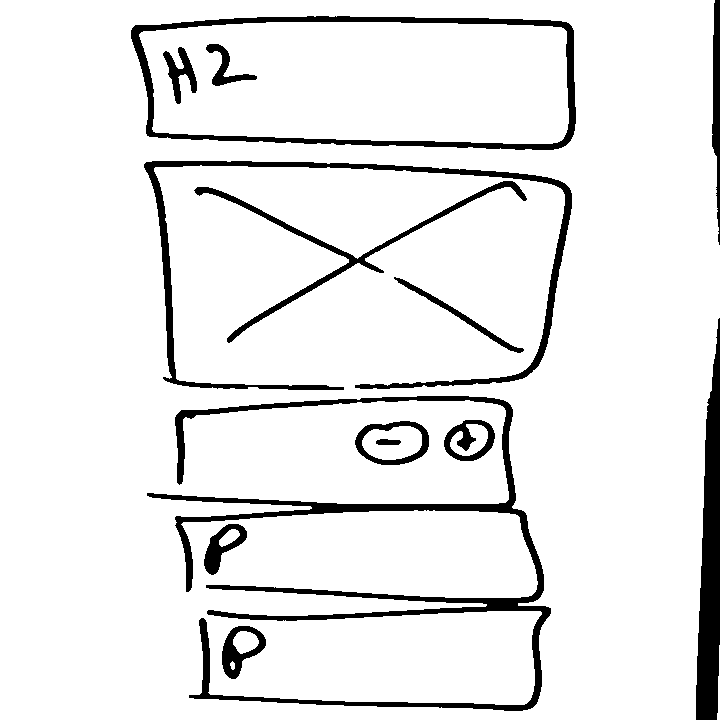heading2: (119, 12, 590, 155)
inline stepper bar: (138, 390, 529, 509)
paragraph: (192, 601, 562, 715), (174, 502, 554, 608)
picture: (139, 158, 580, 392)
